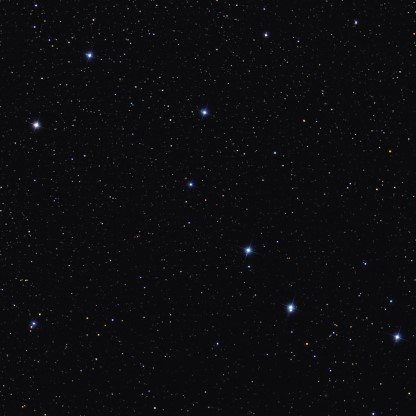Ursa Major: (379, 322, 411, 351), (177, 173, 205, 197), (236, 238, 261, 264), (278, 294, 303, 317), (191, 99, 213, 122), (79, 47, 100, 67), (26, 115, 46, 135)
